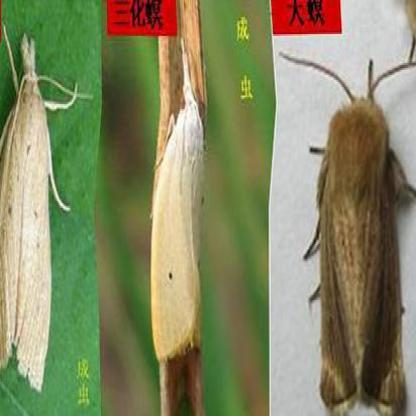stem-borer: (280, 44, 416, 416), (0, 24, 94, 396), (149, 40, 207, 366)
